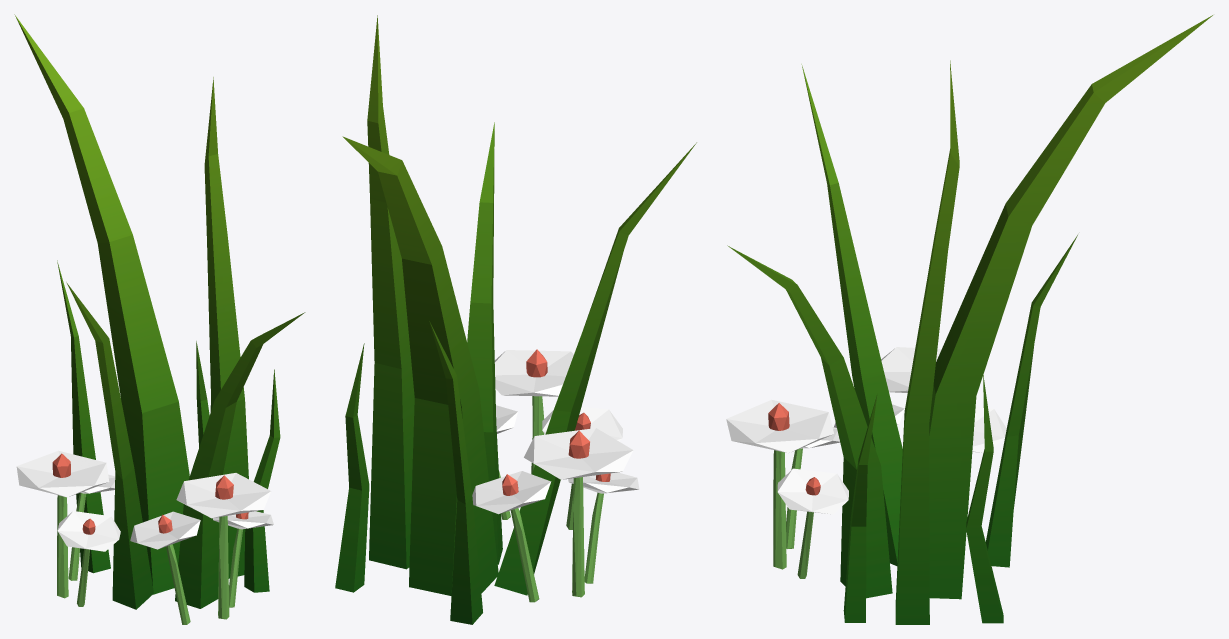
Rendered from Grass_07.fbx.
3 renders of one model, left to right at view 1: azimuth 30°, elevation 25°; view 2: azimuth 150°, elevation 25°; view 3: azimuth 270°, elevation 25°, orthographic. The views are drawn at different scales.
Visible parts, largest first — view 1: Grass_07; view 2: Grass_07; view 3: Grass_07.
Boxes of the visible parts, x1,y1,x2,y2 form: Grass_07: (14, 14, 305, 624); Grass_07: (335, 15, 696, 624); Grass_07: (726, 15, 1212, 624).
Size of the model in its own units: 31.22 by 60.15 by 47.53.
